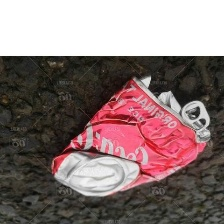can: (48, 69, 214, 200)
